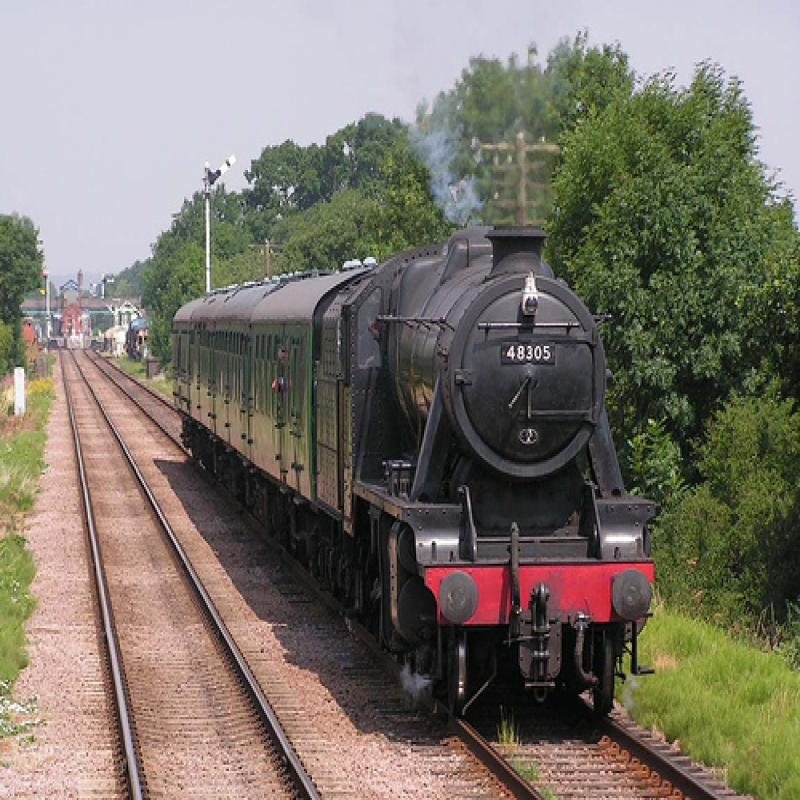train: (168, 219, 661, 729)
